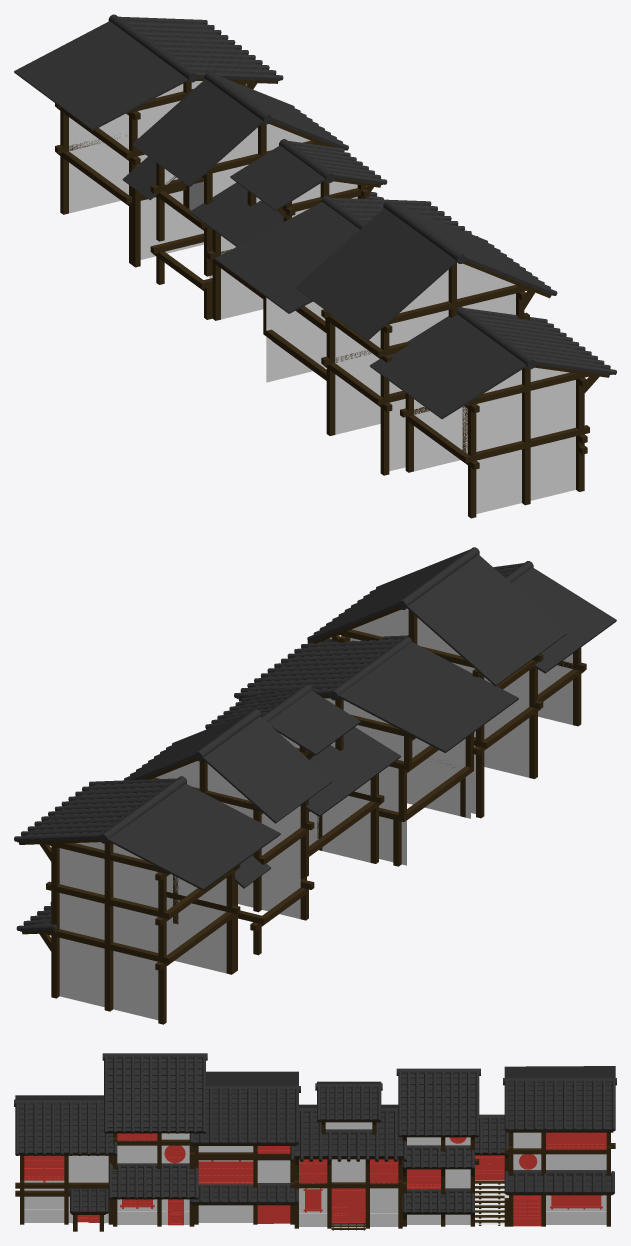
The model's file is staat link.fbx.
3 views of the same model, one above another, from view 1: azimuth 30°, elevation 25°; view 2: azimuth 150°, elevation 25°; view 3: azimuth 270°, elevation 25° (orthographic). The views are drawn at different scales.
Visible parts, largest first — view 1: Roofs, base Cube, Pillars, Pillars Up, UnderRoofs; view 2: Roofs, base Cube, Pillars, Pillars Up, UnderRoofs; view 3: Roofs, base Cube, Doors And Windows, Pillars Up, Pillars, UnderRoofs, Stairs.
Boxes of the visible parts, bbox=[...] form: Roofs: bbox=[14, 14, 616, 419]; base Cube: bbox=[69, 81, 575, 513]; Pillars: bbox=[55, 82, 589, 469]; Pillars Up: bbox=[60, 81, 599, 518]; UnderRoofs: bbox=[196, 78, 609, 377]; Roofs: bbox=[14, 547, 616, 931]; base Cube: bbox=[59, 608, 572, 1020]; Pillars: bbox=[46, 629, 586, 970]; Pillars Up: bbox=[39, 610, 581, 1024]; UnderRoofs: bbox=[19, 607, 400, 934]; Roofs: bbox=[14, 1053, 616, 1214]; base Cube: bbox=[24, 1122, 606, 1226]; Doors And Windows: bbox=[24, 1132, 606, 1226]; Pillars Up: bbox=[20, 1122, 610, 1231]; Pillars: bbox=[15, 1137, 615, 1196]; UnderRoofs: bbox=[19, 1120, 613, 1214]; Stairs: bbox=[331, 1181, 504, 1230].
Bounding box in the file's own units: 11.98 × 11.23 × 40.8.
